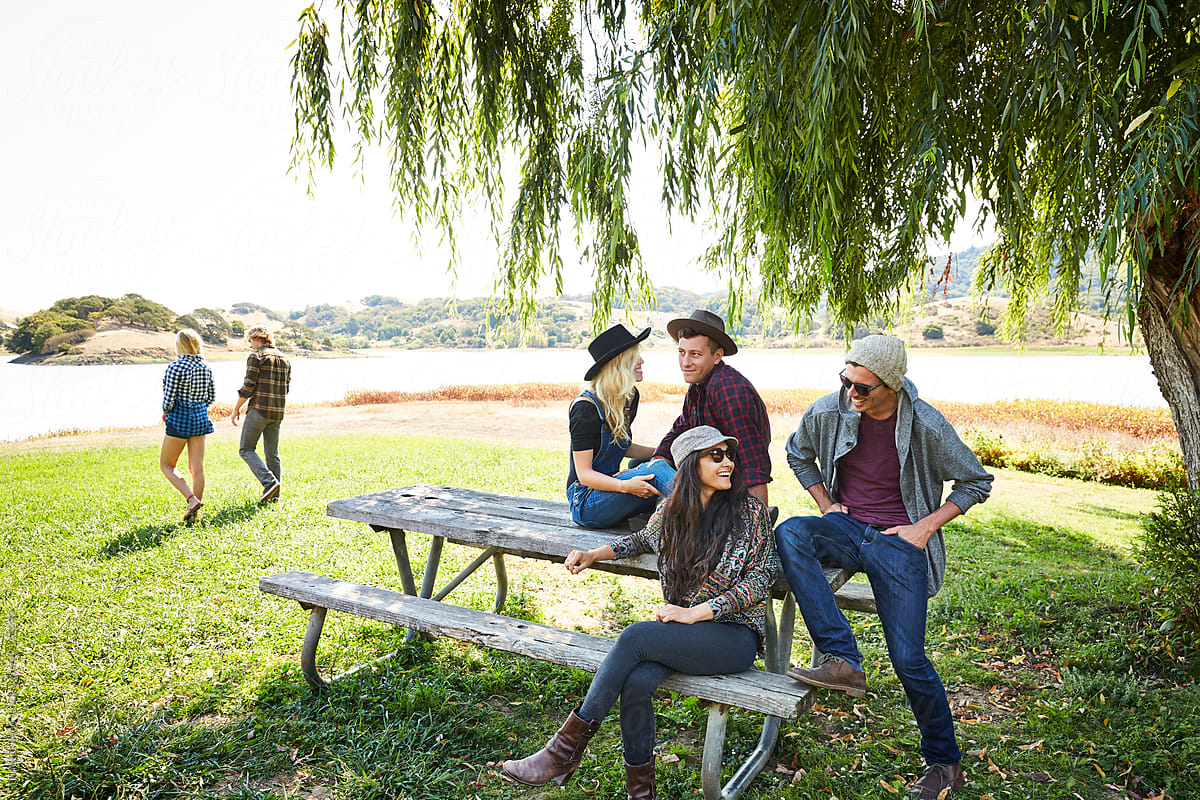Person: (752, 321, 1019, 800), (501, 430, 767, 800), (645, 300, 809, 566), (560, 325, 686, 530), (126, 313, 237, 521), (211, 317, 313, 527)
